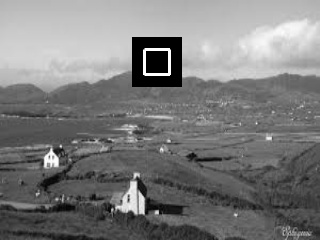square: (132, 37, 182, 87)
